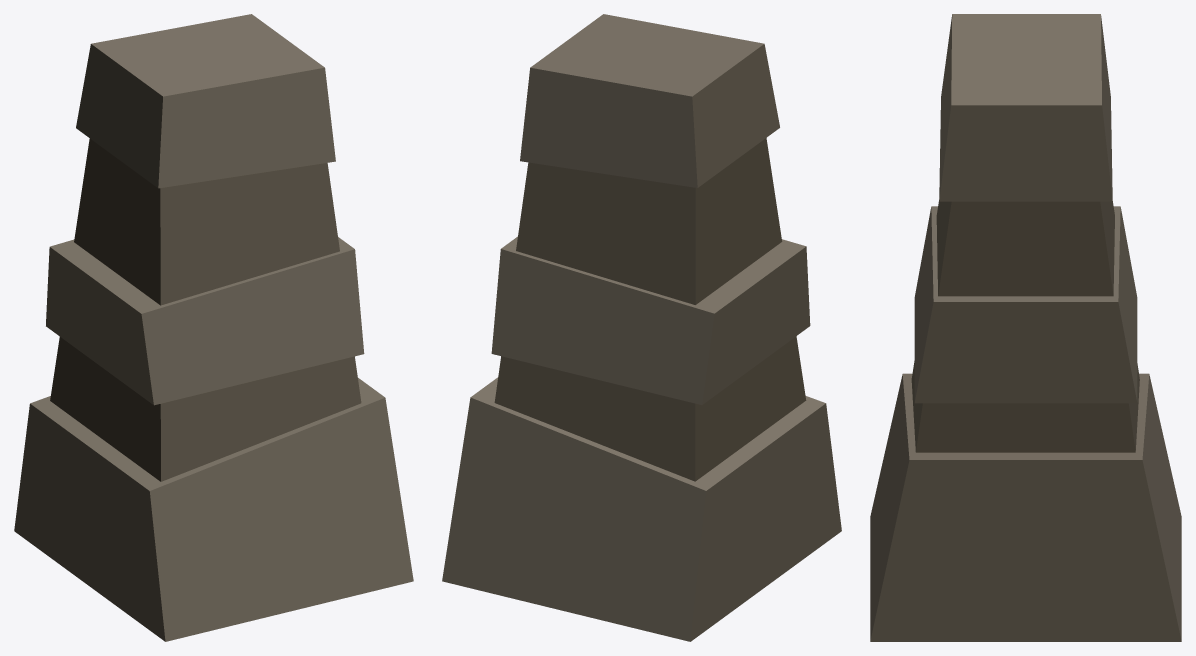
File: Fence_Stone_End.gltf
The picture shows the model from 3 angles, left to right: view 1: azimuth 30°, elevation 25°; view 2: azimuth 150°, elevation 25°; view 3: azimuth 270°, elevation 25°; orthographic projection. The views are drawn at different scales.
Visible parts, largest first — view 1: SF_Prop_Fence_Stone_End_01; view 2: SF_Prop_Fence_Stone_End_01; view 3: SF_Prop_Fence_Stone_End_01.
Boxes of the visible parts, x1,y1,x2,y2 form: SF_Prop_Fence_Stone_End_01: [14, 14, 413, 641]; SF_Prop_Fence_Stone_End_01: [442, 14, 841, 641]; SF_Prop_Fence_Stone_End_01: [870, 14, 1181, 641].
Bounding box in the file's own units: 0.013 × 0.0253 × 0.0137.
1 material, 1 textured.
